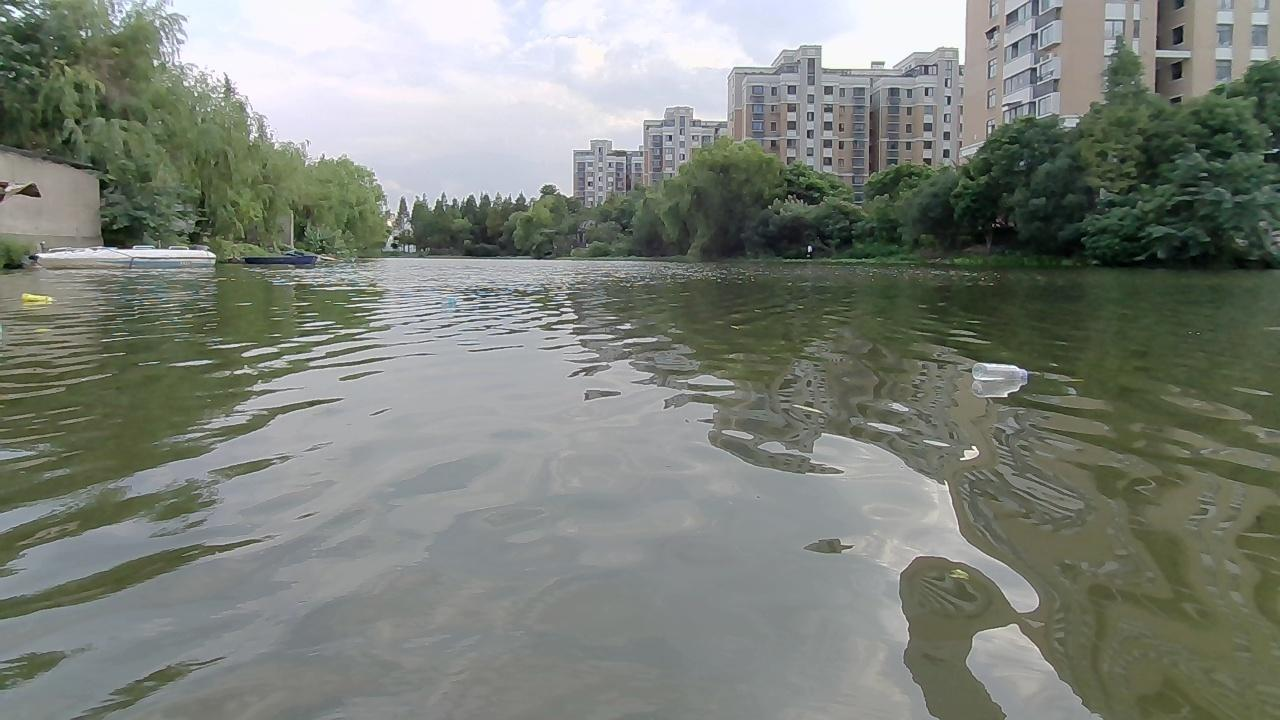bottle: (972, 357, 1024, 384), (19, 290, 57, 308)
